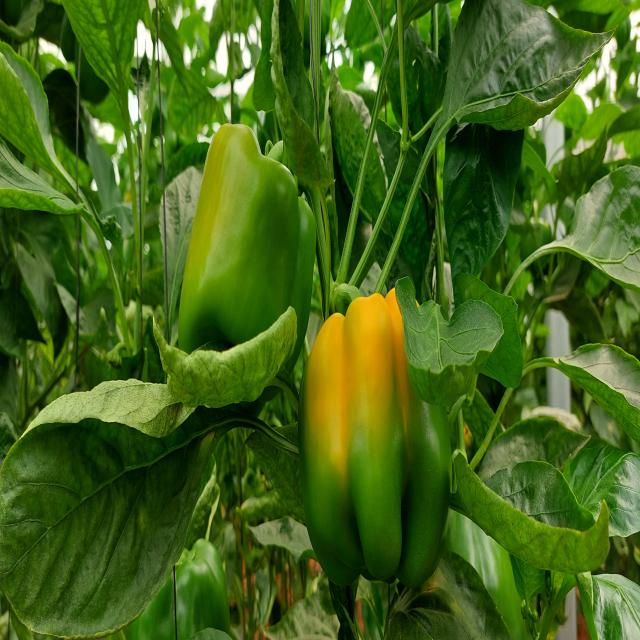GreenishYellow--Can-be-Harvested: (300, 284, 476, 611), (173, 127, 312, 401)
